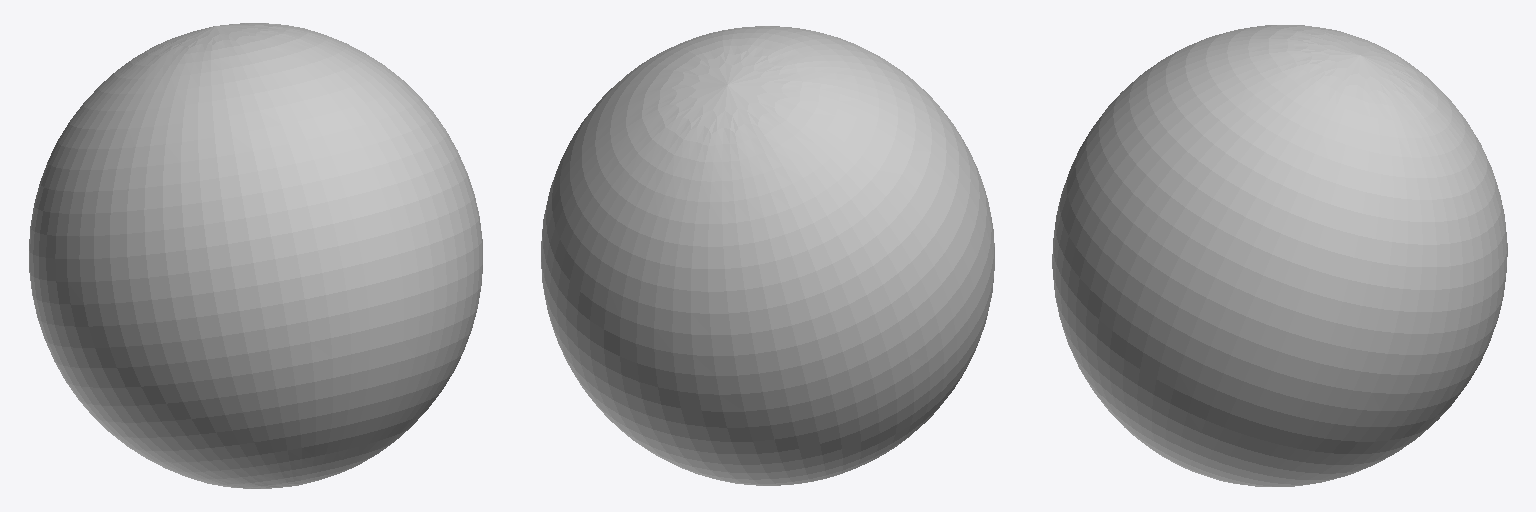
File: ball13.obj
3 renders of one model, left to right at view 1: azimuth 30°, elevation 25°; view 2: azimuth 150°, elevation 25°; view 3: azimuth 270°, elevation 25°, orthographic.
Parts seen in each view (by area): view 1: Sphere01.001; view 2: Sphere01.001; view 3: Sphere01.001.
Part boxes in pixels (left/top/right/bottom): Sphere01.001: left=29, top=23, right=482, bottom=488; Sphere01.001: left=541, top=26, right=994, bottom=485; Sphere01.001: left=1052, top=25, right=1507, bottom=486.
Bounding box in the file's own units: 5.45 × 5.58 × 5.46.